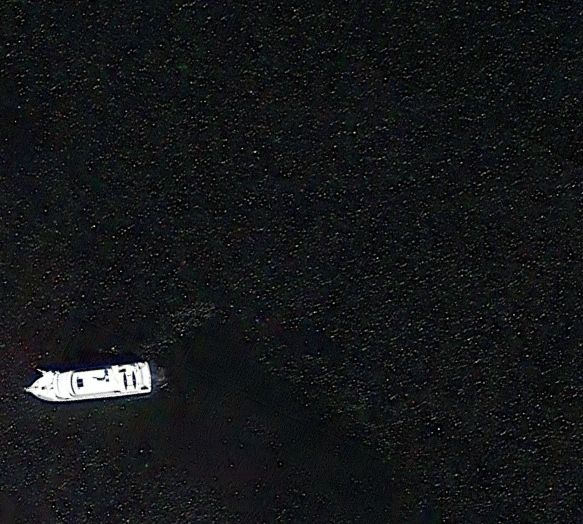boat: (23, 355, 157, 405)
